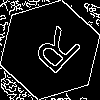R: (25, 25, 84, 83)
